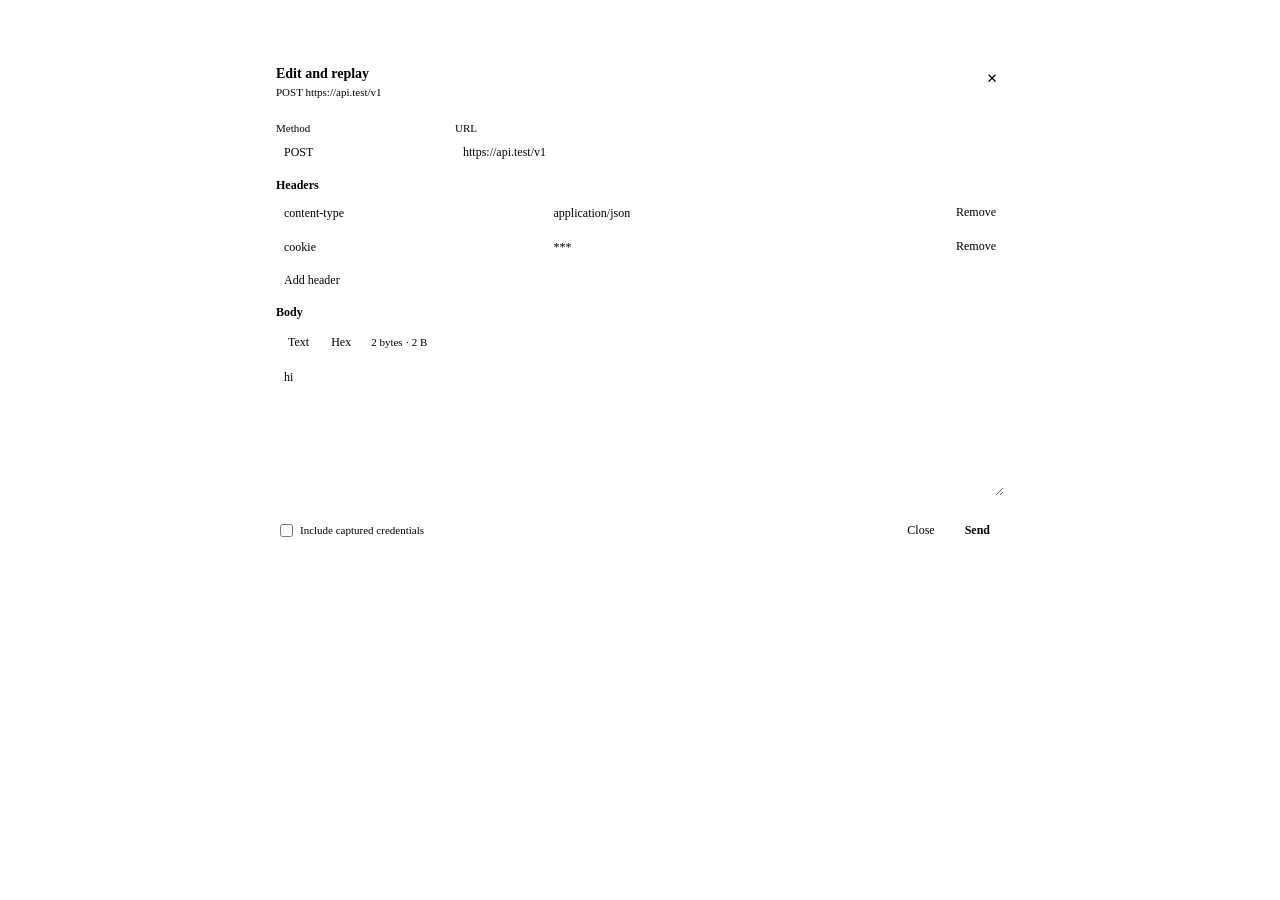
it: ReplayEditor › switches the body to the hex grid and back
Click the radio button labelled "Hex" at (341, 342), box [321,328,361,356]
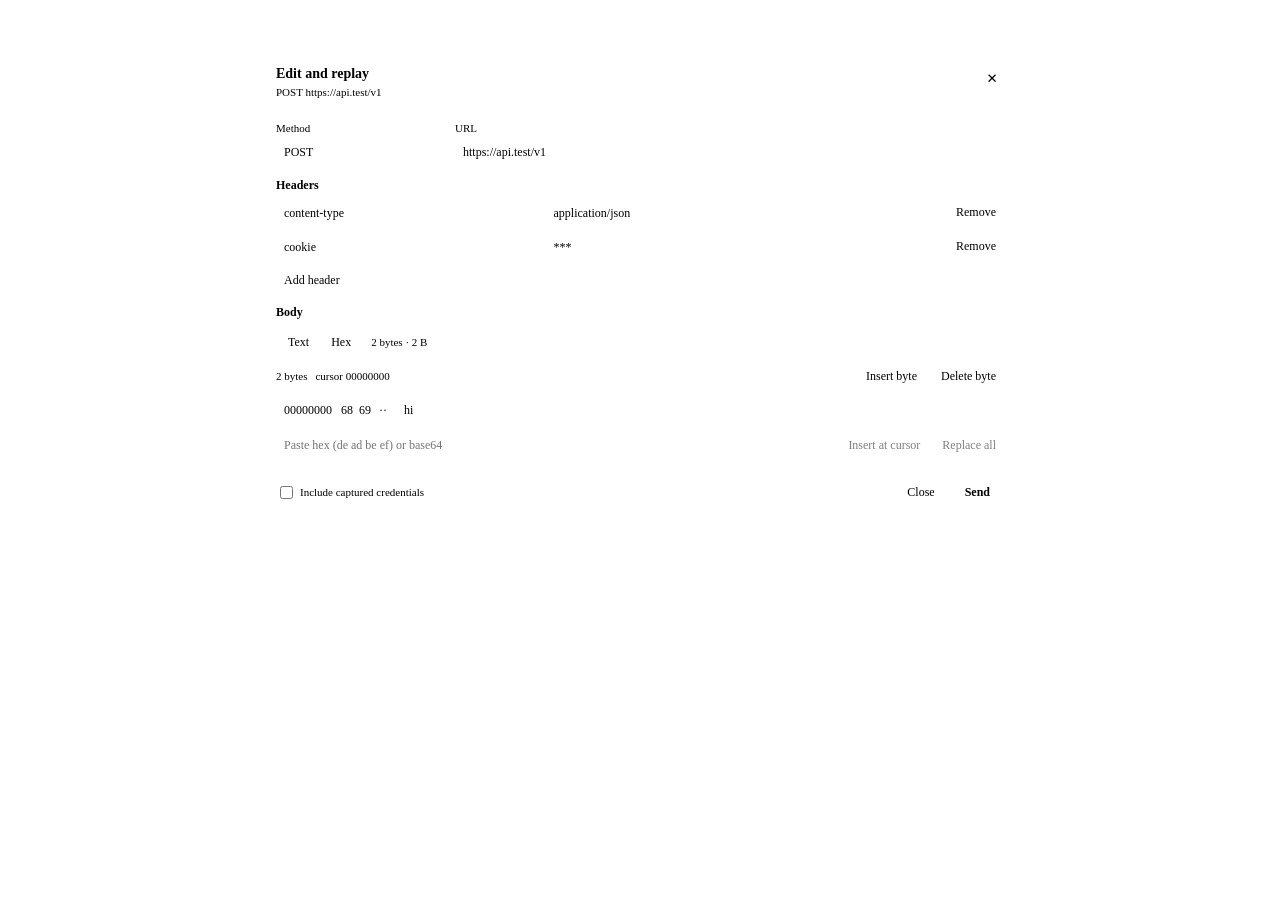
Result: the table is shown at [284,403,413,417]
Result: the text with test id "hex-editor-count" reads "2 bytes" at [276,370,308,382]
Click the radio button labelled "Text" at (299, 342), box [278,328,319,356]
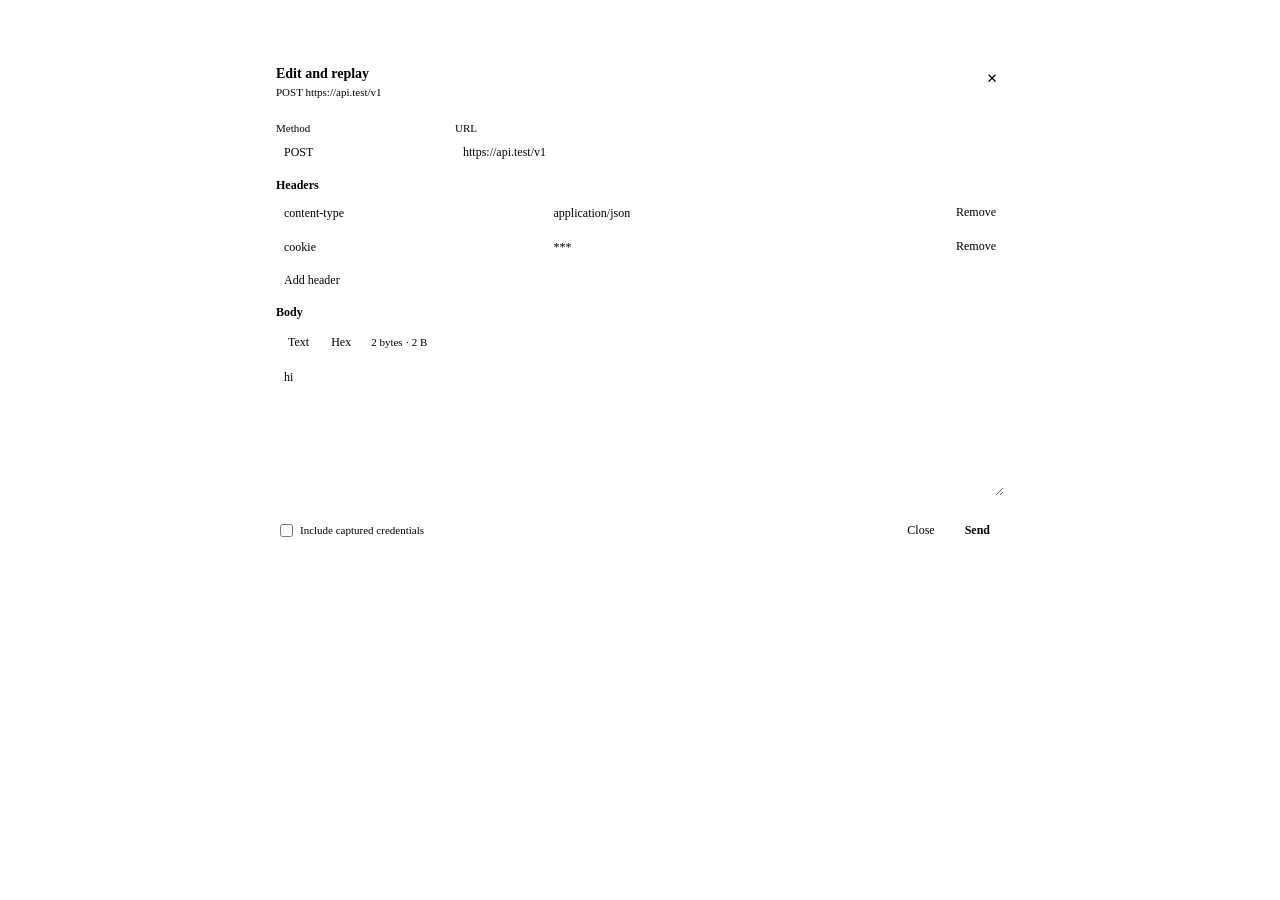
Result: the text box named "Request body text" holds "hi" at [276,364,1004,496]
